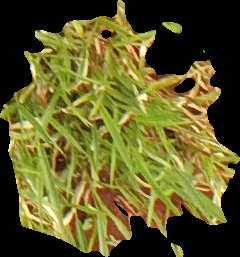grass: (1, 1, 239, 256)
